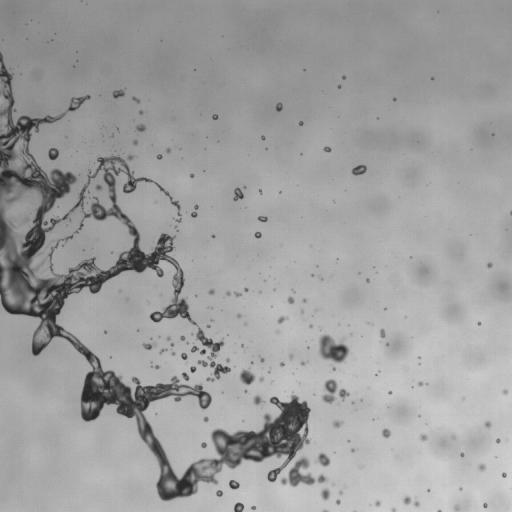droplet: (191, 326, 230, 381), (279, 456, 328, 487), (318, 335, 349, 363), (322, 379, 337, 403), (239, 367, 255, 385), (316, 453, 330, 466), (352, 165, 366, 175), (233, 188, 243, 201), (338, 388, 349, 399), (320, 488, 330, 500), (48, 148, 58, 159), (253, 395, 264, 405), (233, 502, 244, 511), (112, 90, 124, 98), (382, 428, 391, 438), (229, 480, 239, 489), (332, 420, 342, 428), (277, 316, 287, 323), (136, 124, 145, 131), (257, 216, 267, 222), (287, 296, 294, 304), (182, 372, 189, 380), (478, 463, 485, 471), (276, 102, 282, 111), (484, 421, 491, 428), (323, 146, 331, 152), (181, 352, 187, 360), (380, 328, 385, 337), (95, 184, 102, 190), (254, 232, 261, 238), (234, 291, 241, 297), (420, 434, 427, 440), (191, 211, 197, 217), (190, 366, 196, 372), (216, 490, 222, 496), (374, 500, 380, 506), (159, 348, 166, 353), (212, 114, 218, 119), (127, 155, 133, 160), (208, 289, 214, 294), (454, 505, 459, 511), (487, 262, 492, 267), (180, 335, 185, 340), (418, 381, 423, 386), (201, 442, 206, 447), (289, 353, 293, 359), (300, 361, 306, 365), (133, 140, 137, 145), (166, 148, 170, 153), (157, 154, 161, 159), (194, 204, 198, 209), (166, 336, 170, 341), (260, 357, 264, 362), (503, 389, 507, 394), (203, 417, 208, 421), (496, 438, 500, 443), (502, 472, 506, 477), (336, 499, 340, 504), (483, 503, 487, 508), (153, 365, 159, 368), (139, 110, 143, 114), (299, 121, 303, 125), (261, 136, 265, 140), (190, 173, 194, 177), (226, 291, 230, 295), (280, 362, 284, 366), (259, 377, 263, 381), (303, 298, 306, 302), (478, 321, 481, 325), (451, 436, 455, 439), (391, 508, 395, 511), (342, 76, 345, 79), (259, 190, 262, 193), (25, 218, 28, 221), (366, 279, 369, 282), (244, 288, 247, 291), (238, 314, 241, 317), (309, 324, 312, 327), (226, 358, 229, 361), (332, 367, 335, 370), (388, 391, 391, 394), (351, 448, 354, 451), (460, 453, 463, 456), (339, 491, 342, 494), (251, 506, 254, 509), (338, 85, 340, 88), (393, 98, 396, 100), (171, 343, 173, 346), (172, 352, 174, 355), (244, 390, 247, 392), (459, 487, 462, 489), (212, 235, 214, 237), (311, 274, 313, 276), (292, 290, 294, 292), (207, 325, 209, 327), (386, 343, 388, 345), (418, 356, 420, 358), (268, 370, 270, 372)
ligament: (0, 52, 310, 500), (403, 496, 419, 506), (143, 342, 156, 349), (132, 97, 139, 103), (322, 509, 328, 511), (437, 510, 441, 511), (510, 211, 511, 214)
